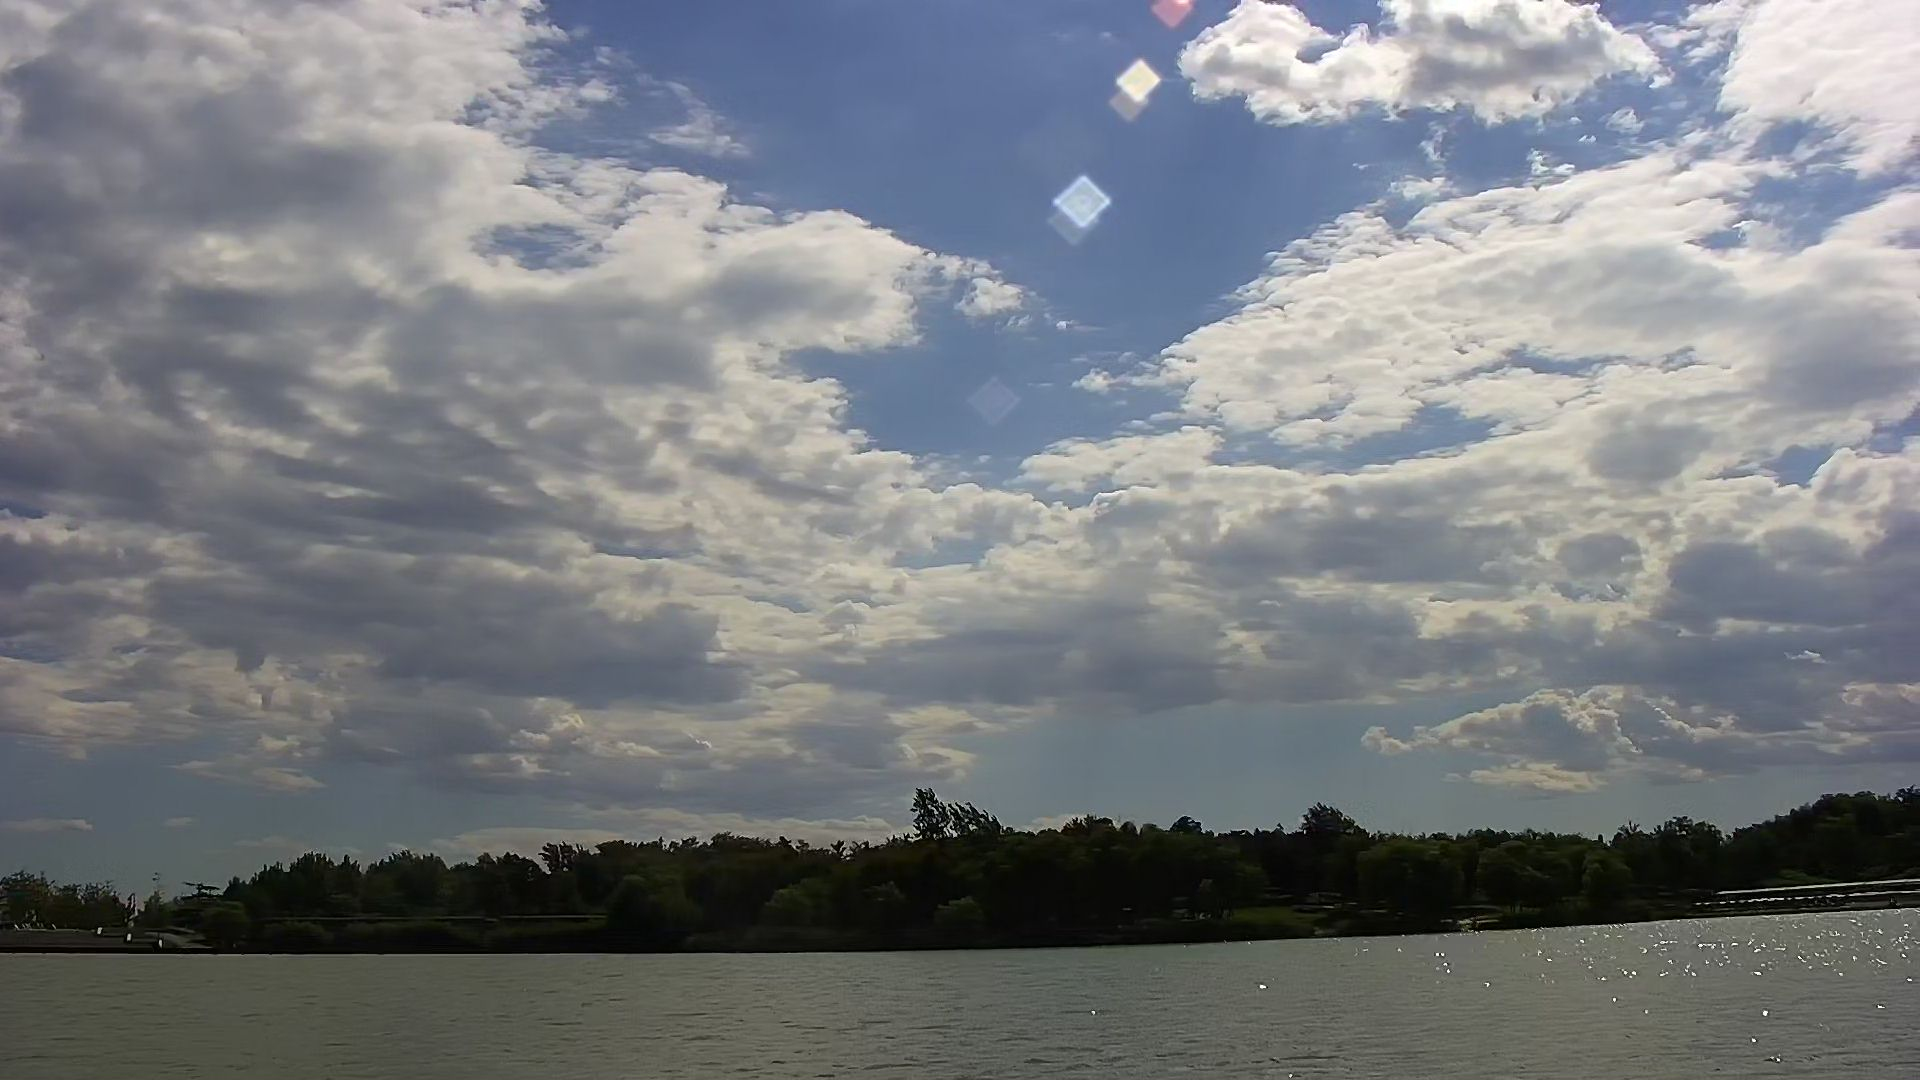harbor: (1, 907, 208, 963)
